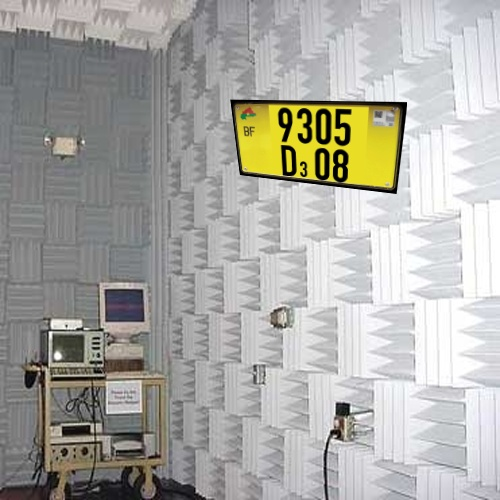plate: (221, 86, 422, 210)
